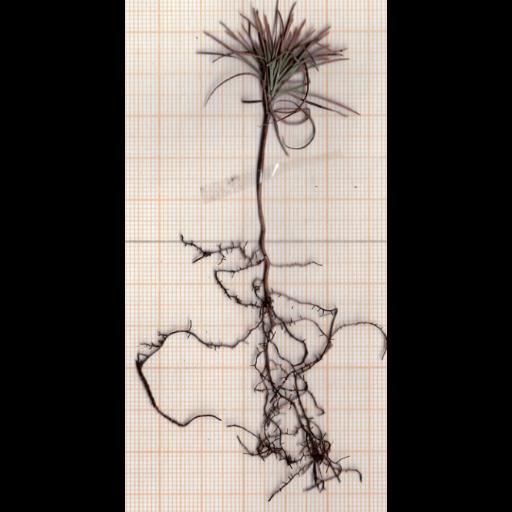flowerCedr: (201, 0, 359, 153)
rootCedr: (136, 237, 387, 500)
stemCedr: (255, 105, 271, 251)
